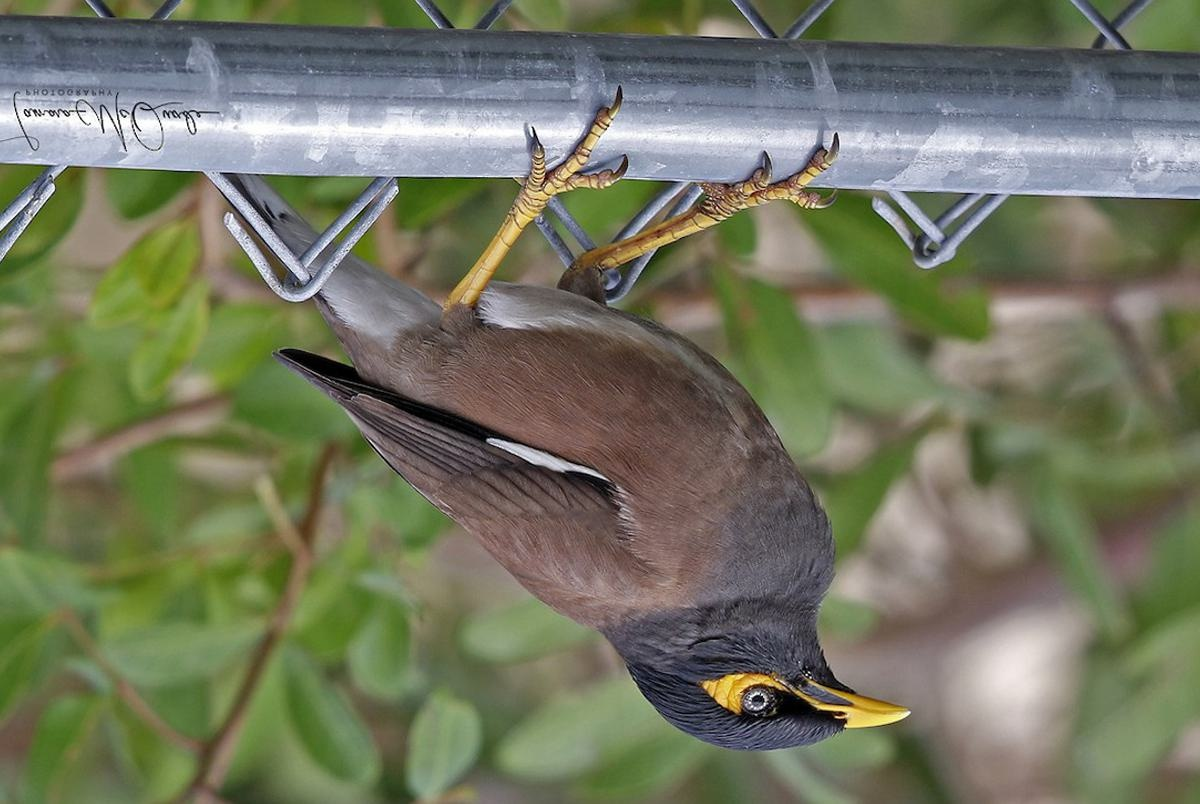myna: (340, 109, 925, 776)
